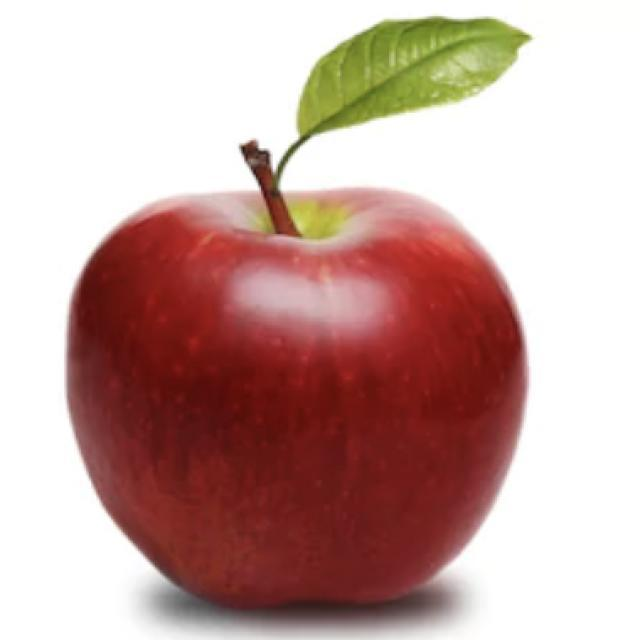Fresh Apple: (79, 186, 514, 602)
